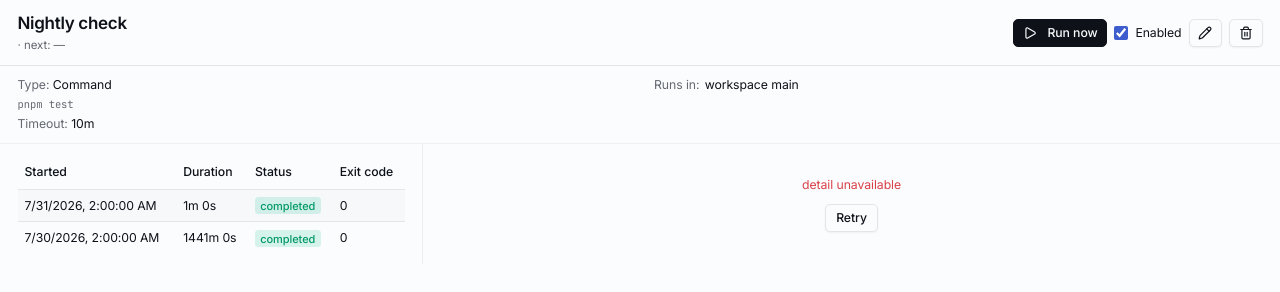
schedule run split view › offers a retry when loading the selected run fails
The image size is (1280, 292).
Click the button "Retry": (852, 218) [825,204,878,232]
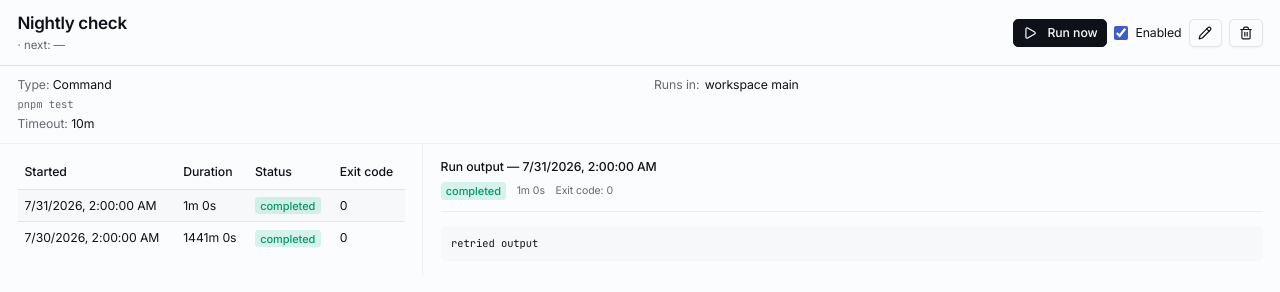
Result: the text "retried output" is shown at [441,226,1262,261]
